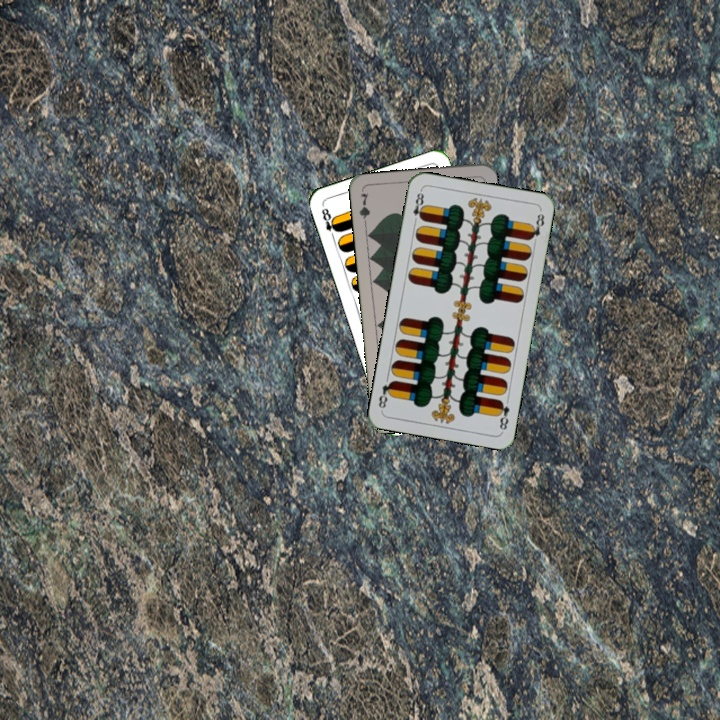E8: (318, 204, 341, 242), (409, 187, 428, 227), (493, 396, 512, 434)
G7: (355, 189, 373, 229)
